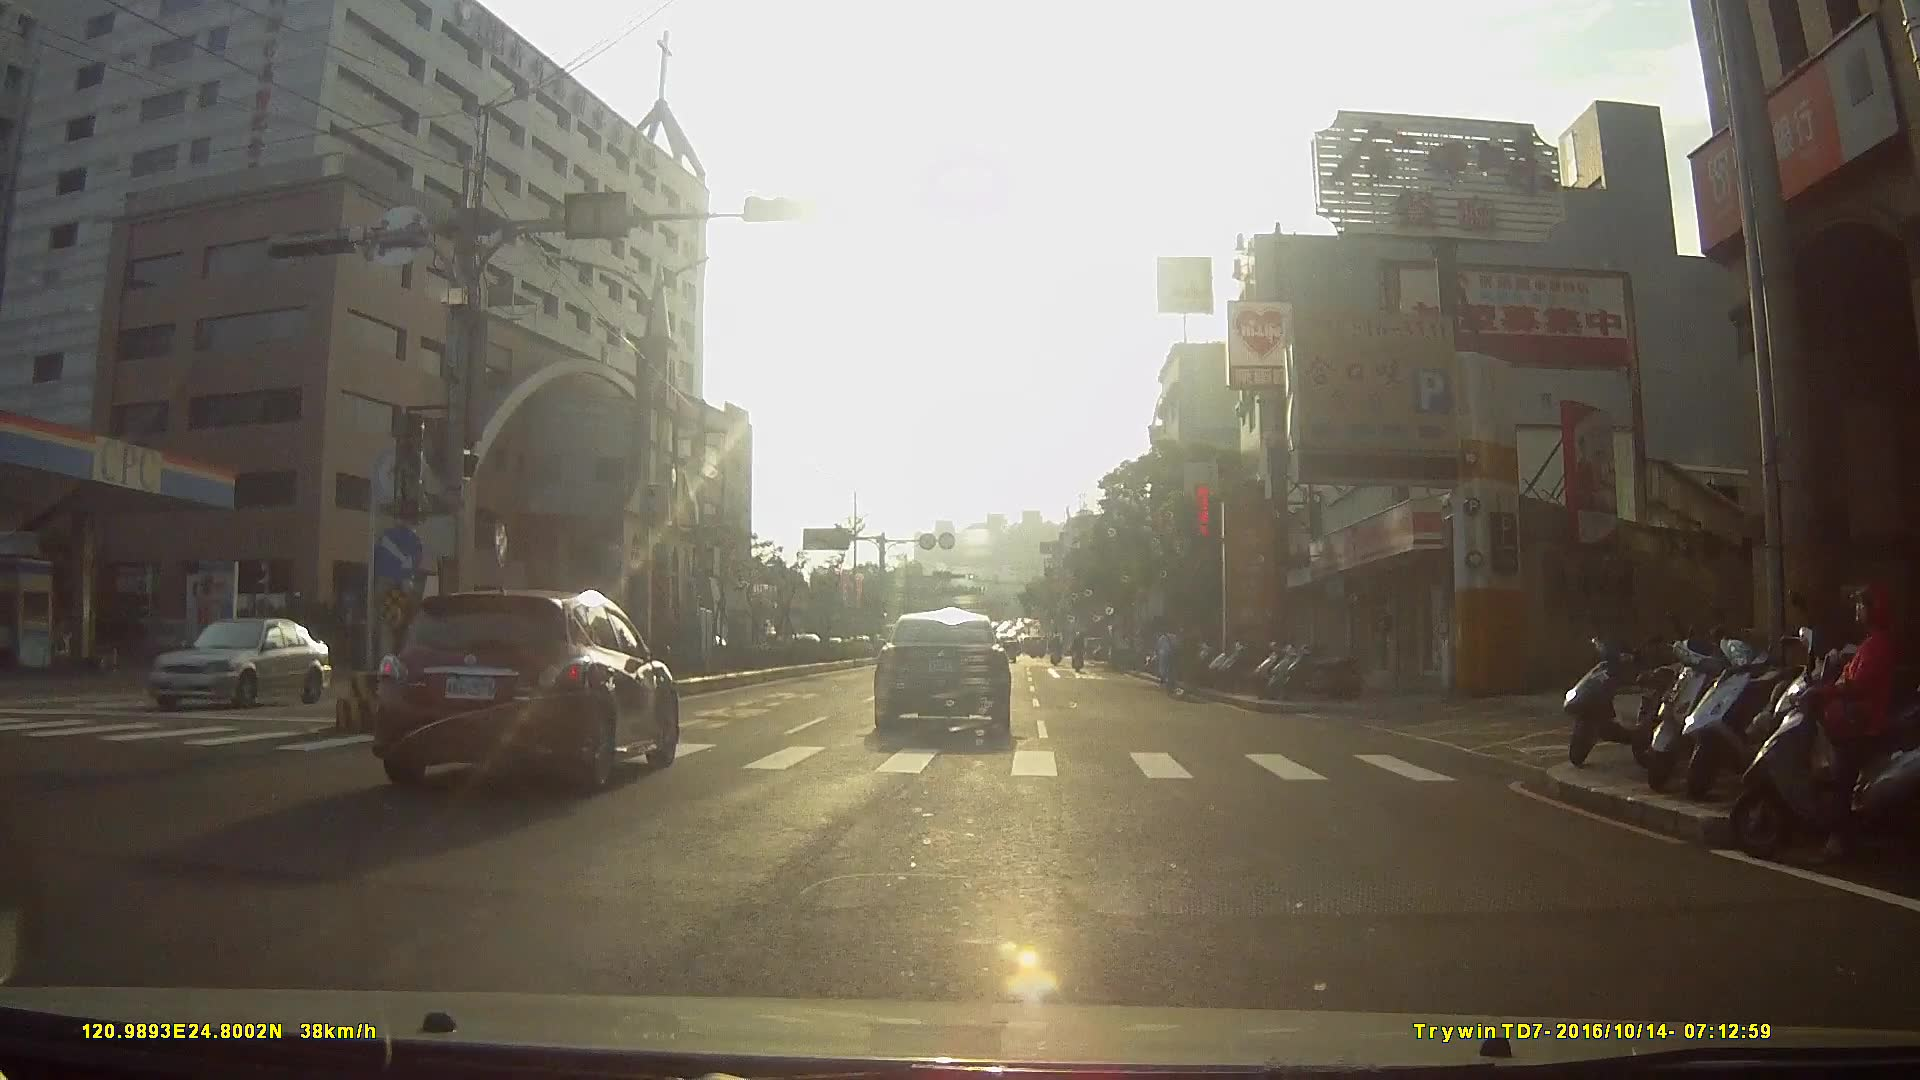rider: (1727, 582, 1916, 870), (1153, 622, 1183, 702)
vehicle: (370, 579, 692, 799), (131, 610, 338, 722), (866, 601, 1019, 738), (763, 607, 822, 662)
